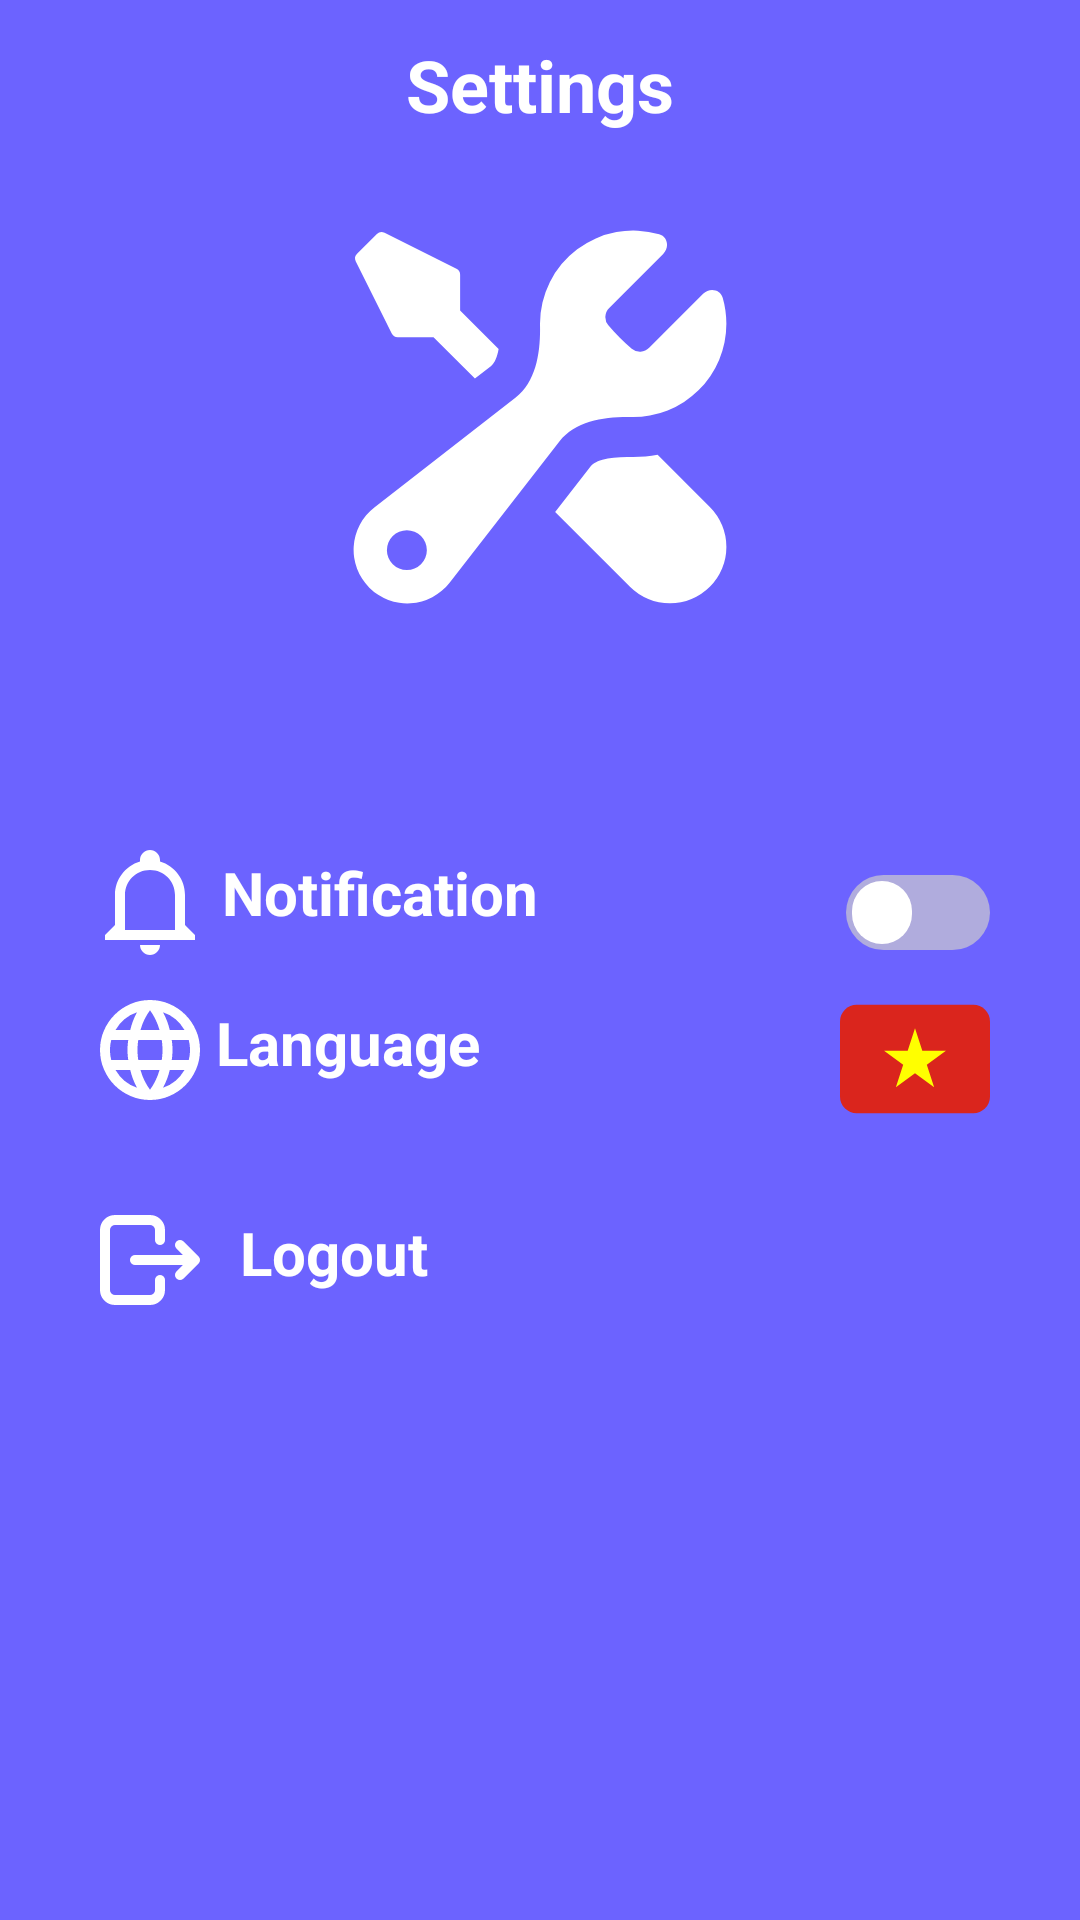

Where to tap for icons on this 1080w x 1920h app screen, as (x=x, y=y):
bell: (x=150, y=902)
flag vietnam: (x=915, y=1059)
